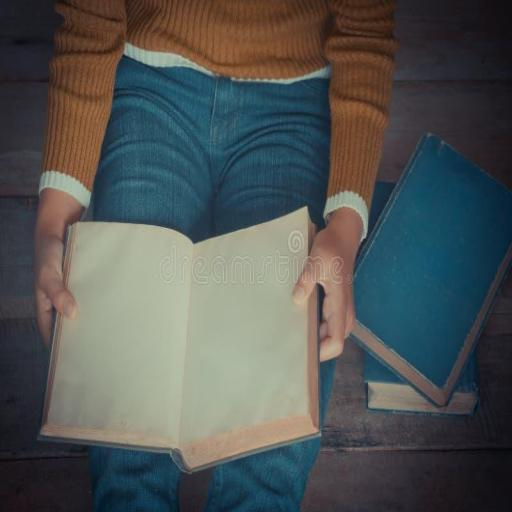paper: (36, 204, 324, 474), (344, 126, 512, 418)
